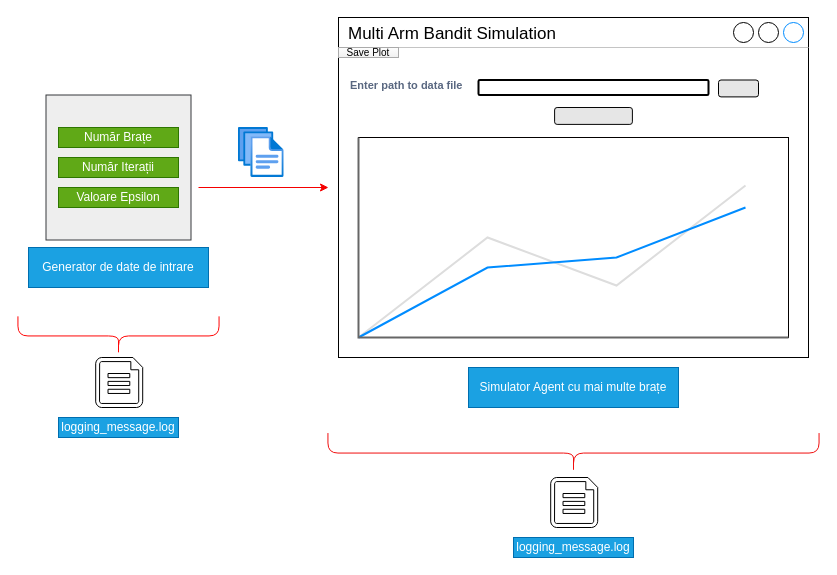
Some shapes in this 837 by 575 pixel diagram are drawn without their labels. Here are the shapes that lost their labels. From the top down, the centre of each, then its label:
At (x=738, y=88): "Browse".
At (x=593, y=115): "Run Simulation".
